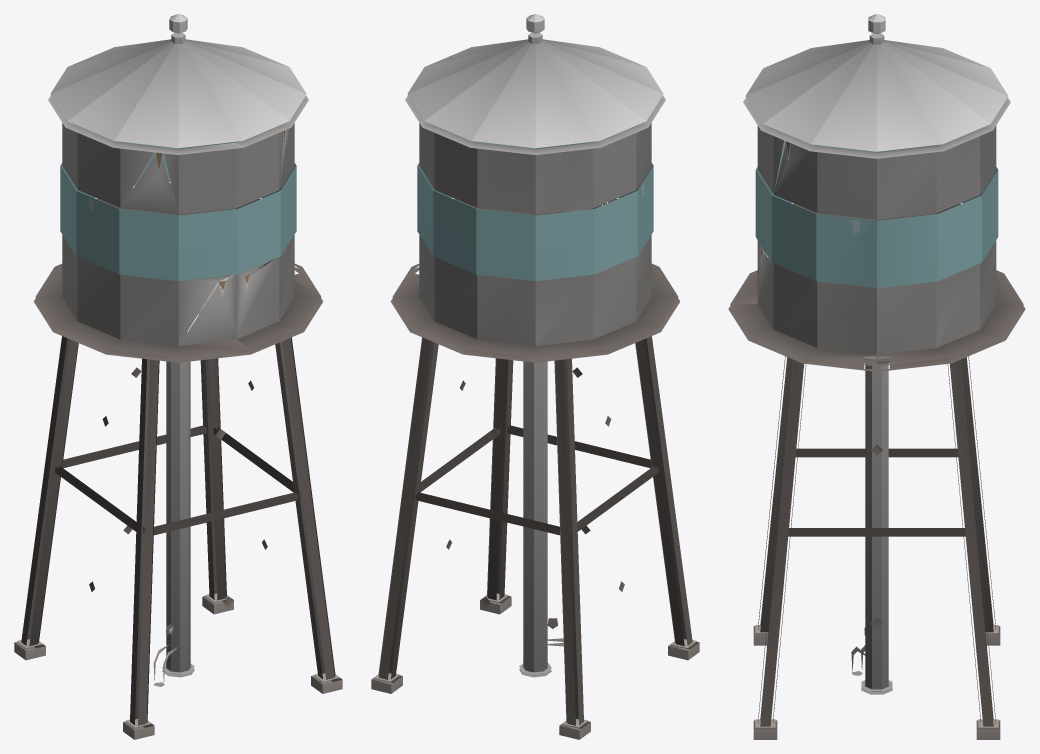
The model's file is tower.lod.glb.
3 views of the same model, side by side, from view 1: azimuth 30°, elevation 25°; view 2: azimuth 150°, elevation 25°; view 3: azimuth 270°, elevation 25° (orthographic). The views are drawn at different scales.
Parts seen in each view (by area): view 1: tower.001; view 2: tower.001; view 3: tower.001.
Part boxes in pixels (bbox=[...]): tower.001: bbox=[14, 14, 342, 739]; tower.001: bbox=[371, 14, 699, 739]; tower.001: bbox=[728, 14, 1025, 739].
Size of the model in its own units: 8 by 20 by 8.
